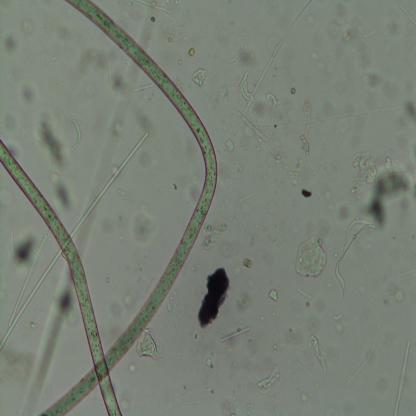Background material: (76, 64, 141, 252), (20, 265, 72, 413), (362, 165, 416, 223), (344, 318, 384, 391), (198, 262, 233, 331), (38, 116, 69, 172), (296, 238, 329, 279), (48, 173, 75, 216), (350, 150, 378, 190), (307, 333, 330, 376), (7, 231, 36, 265), (137, 329, 165, 364), (258, 363, 283, 395), (202, 223, 230, 250), (134, 108, 159, 137), (227, 46, 258, 69), (116, 290, 142, 312), (280, 323, 307, 343), (20, 82, 39, 110), (344, 101, 362, 128), (266, 144, 286, 168), (401, 99, 416, 130), (78, 56, 103, 74), (232, 291, 254, 311), (53, 27, 76, 45), (332, 0, 353, 19), (0, 34, 20, 53), (285, 165, 303, 186), (192, 66, 208, 89), (189, 170, 200, 202), (336, 201, 352, 223), (104, 59, 114, 94), (364, 74, 384, 90), (220, 397, 236, 416), (215, 82, 230, 100), (328, 19, 340, 41), (306, 316, 321, 330), (298, 186, 313, 200), (241, 255, 255, 269), (393, 289, 406, 304), (225, 138, 236, 155), (267, 288, 280, 302), (284, 84, 298, 97), (244, 400, 254, 416), (204, 356, 214, 371), (298, 390, 310, 402), (187, 44, 197, 58), (129, 362, 138, 374), (206, 384, 216, 394), (167, 32, 175, 43), (172, 182, 180, 191), (149, 14, 155, 22), (273, 343, 279, 349), (260, 315, 264, 321)
Glass filter fibre: (70, 130, 150, 236), (244, 0, 317, 115), (0, 250, 61, 356), (8, 231, 51, 328), (335, 218, 375, 300), (392, 340, 412, 414), (300, 99, 318, 175), (236, 112, 268, 143), (340, 20, 375, 47), (64, 110, 80, 152), (220, 325, 252, 344), (136, 1, 171, 16), (171, 298, 183, 336), (398, 3, 416, 28), (238, 72, 253, 102), (232, 191, 256, 208), (295, 287, 315, 302), (132, 82, 155, 94), (265, 92, 280, 110), (336, 126, 346, 146), (332, 309, 344, 324)
Microfibre: (38, 1, 216, 415), (0, 139, 123, 414)
